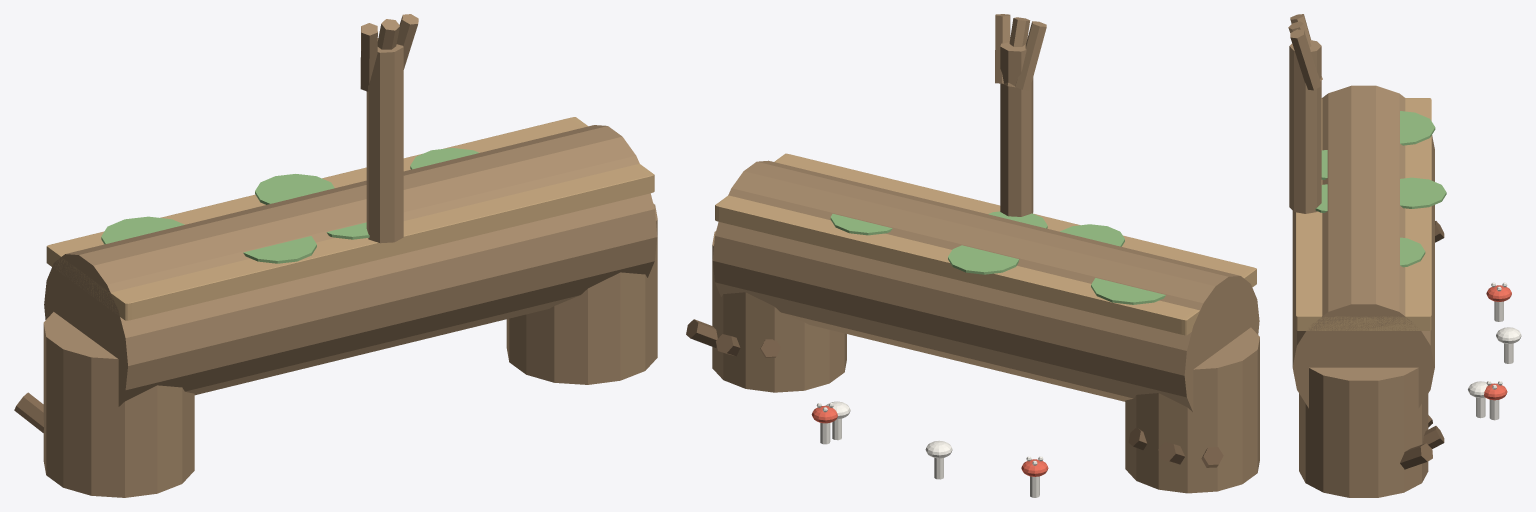
The model's file is root_bench.glb.
The picture shows the model from 3 angles, left to right: view 1: azimuth 30°, elevation 25°; view 2: azimuth 150°, elevation 25°; view 3: azimuth 270°, elevation 25°; orthographic projection. The views are drawn at different scales.
Parts seen in each view (by area): view 1: root_bench; view 2: root_bench; view 3: root_bench.
Boxes of the visible parts, <box> form: root_bench: <box>14,14,657,497</box>; root_bench: <box>686,14,1259,497</box>; root_bench: <box>1288,14,1521,497</box>.
Size of the model in its own units: 1.82 by 1.2 by 0.7218.
